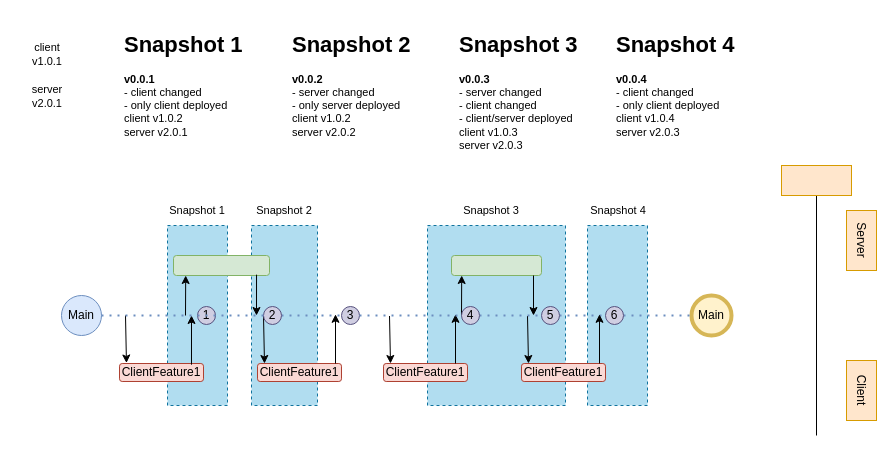
This 894x454 diagram has some shape labels left out. The shapes that lost their labels are listed below. From the top down, each one's box as (x1, y1, x2, y2) in pixels, then its label:
(780, 164, 852, 196): Consolidated repo
(172, 254, 270, 276): ServerFeature 1
(450, 254, 542, 276): ServerFeature 2
